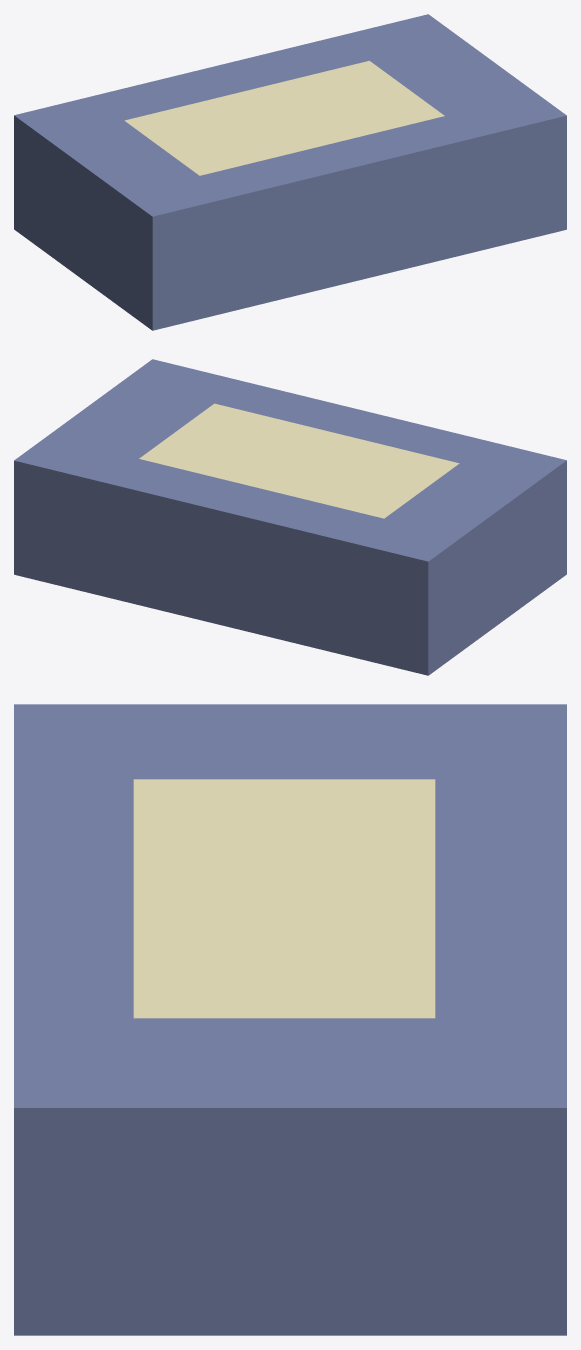
File: Biscuits.fbx
3 renders of one model, top to bottom at view 1: azimuth 30°, elevation 25°; view 2: azimuth 150°, elevation 25°; view 3: azimuth 270°, elevation 25°, orthographic. The views are drawn at different scales.
Parts seen in each view (by area): view 1: Biscuits; view 2: Biscuits; view 3: Biscuits.
Boxes of the visible parts, bbox=[...] form: Biscuits: bbox=[14, 14, 566, 330]; Biscuits: bbox=[14, 359, 566, 675]; Biscuits: bbox=[14, 704, 566, 1335].
Size of the model in its own units: 0.1311 by 0.0345 by 0.0759.
